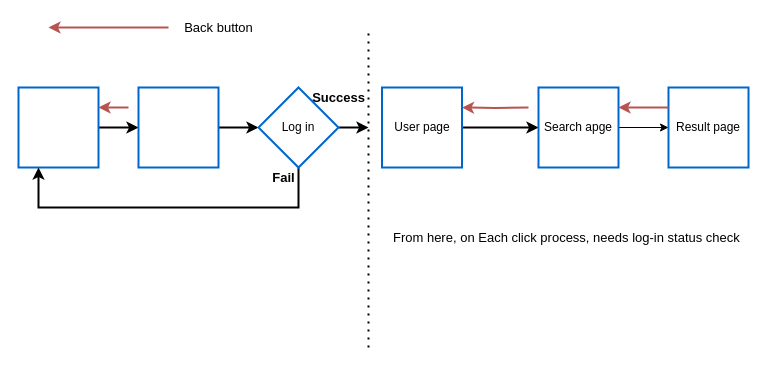
Some shapes in this 770 by 366 pixel diagram are drawn without their labels. Here are the shapes that lost their labels. From the top down, the box of each, then its label:
(17, 86, 99, 168): Landing page
(137, 86, 219, 168): Sign in page
